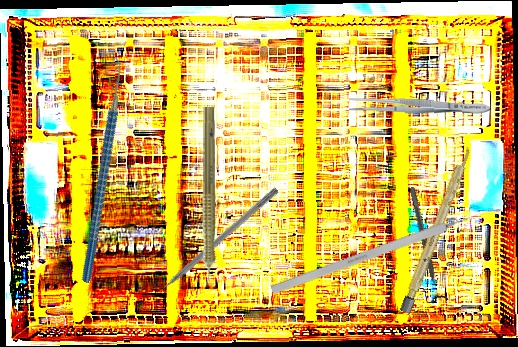Chopper: (7, 47, 192, 284)
Dressing Forceps: (348, 95, 491, 118)
Fixation Ring: (402, 184, 450, 305)
Handpiece: (196, 107, 218, 295)
Hook Surgical: (270, 207, 488, 295)
Pusher: (145, 185, 280, 304)
Scalpel Handle: (399, 144, 474, 315)
